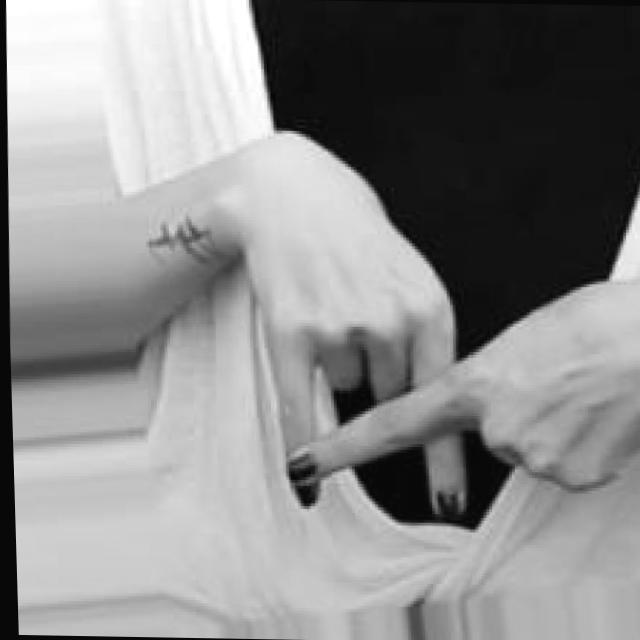H: (190, 121, 640, 531)
